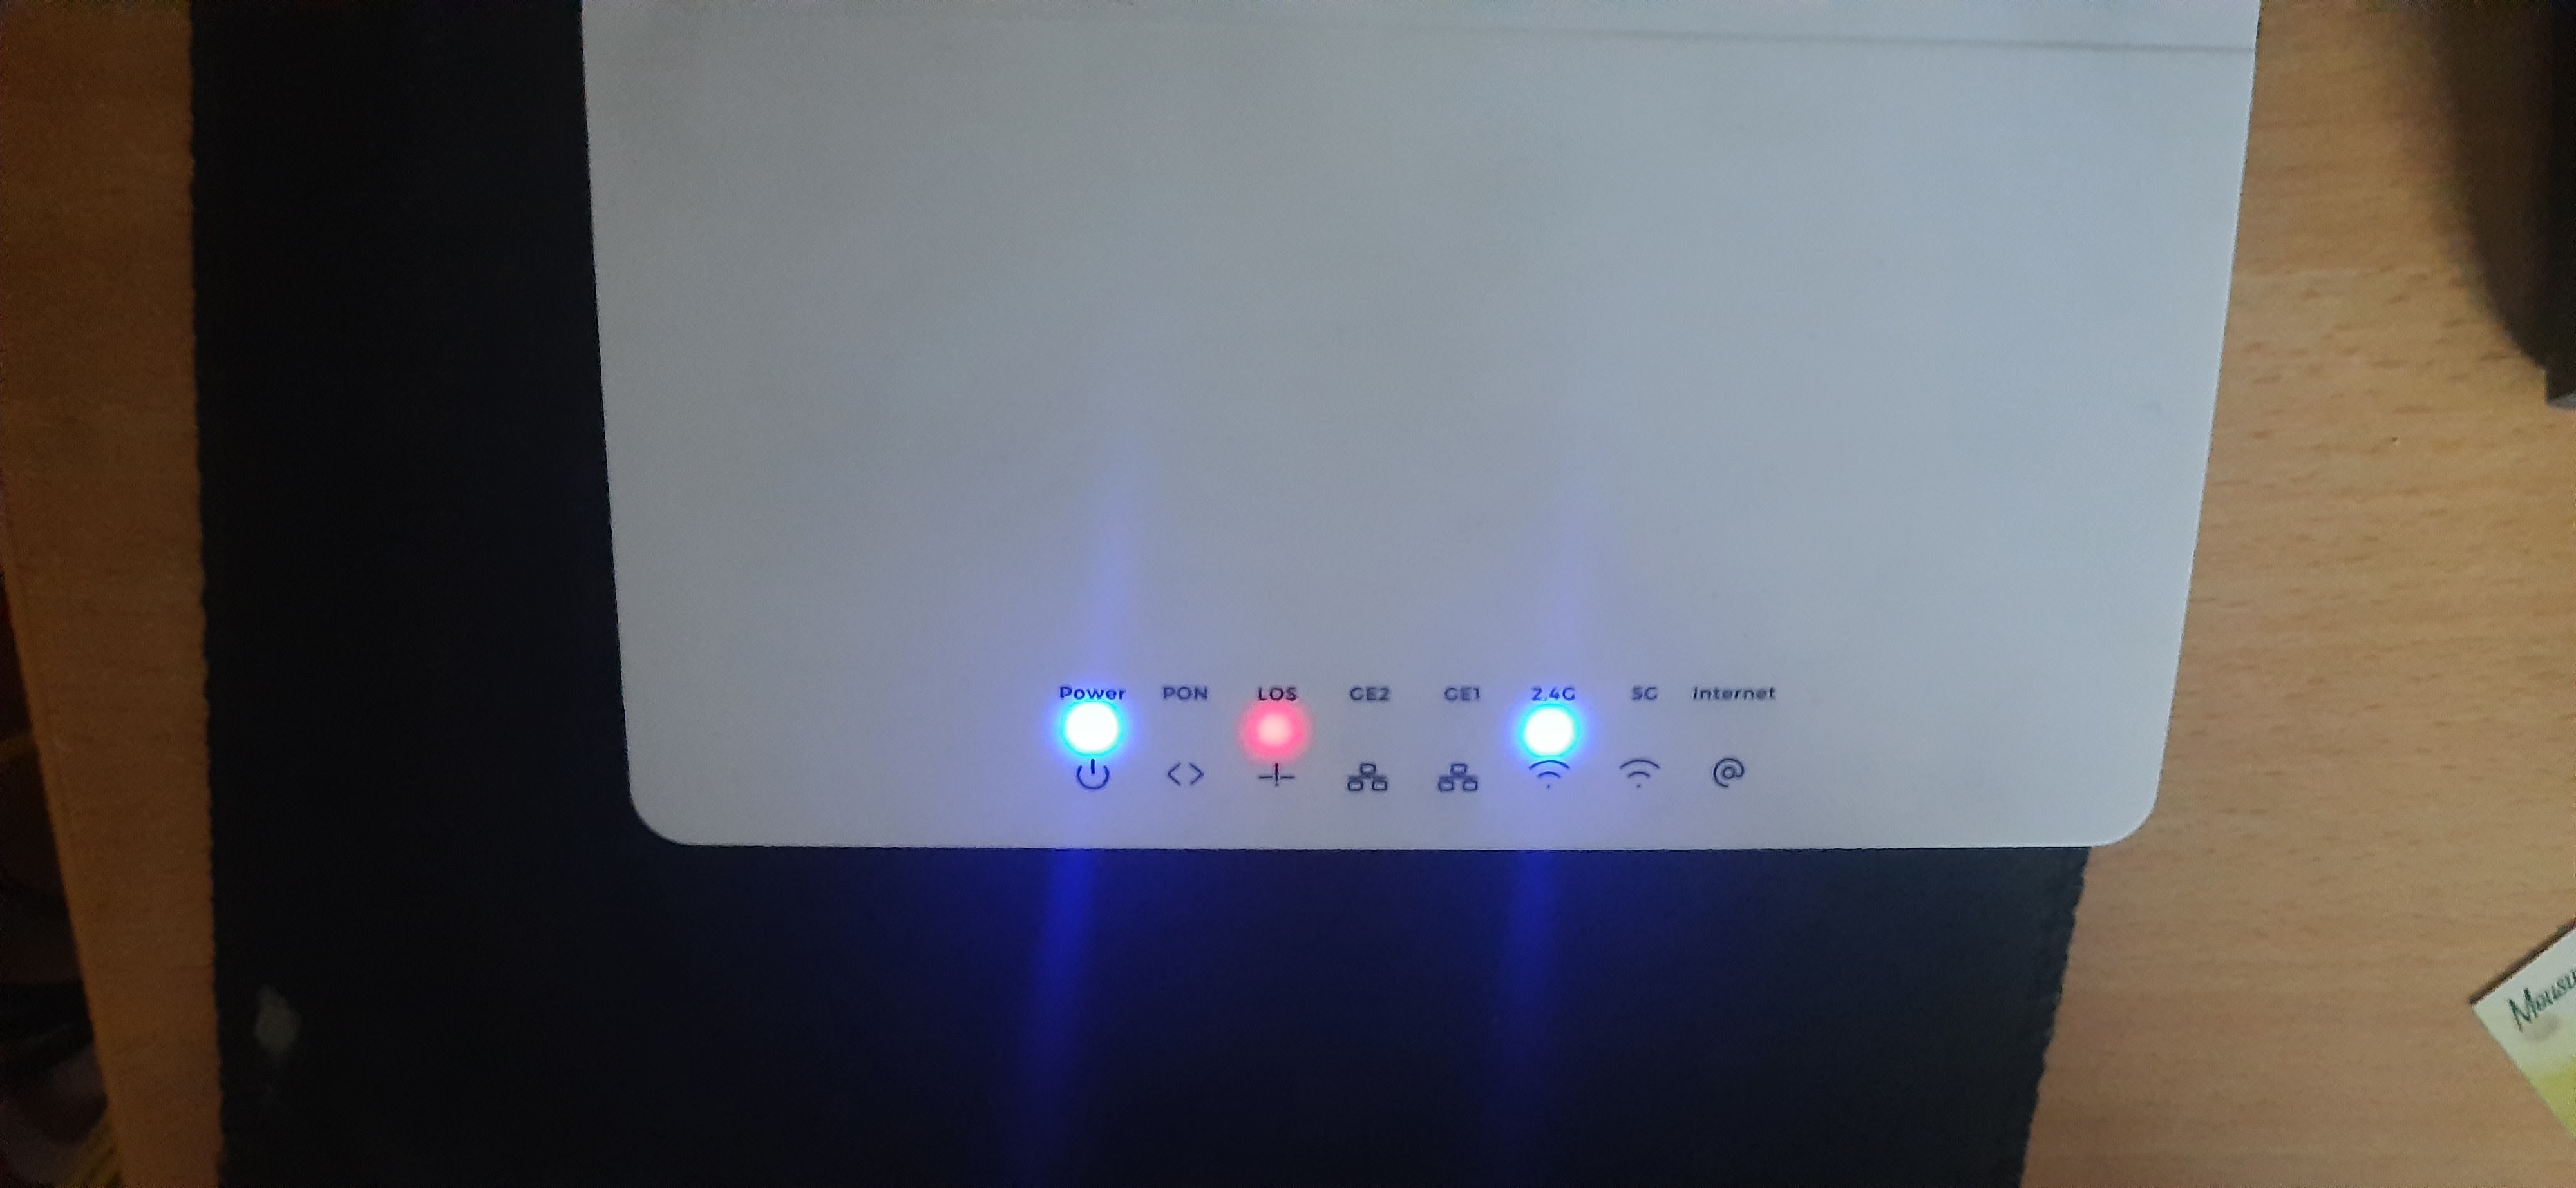LOSConnectionIssue: (1214, 664, 1350, 823)
